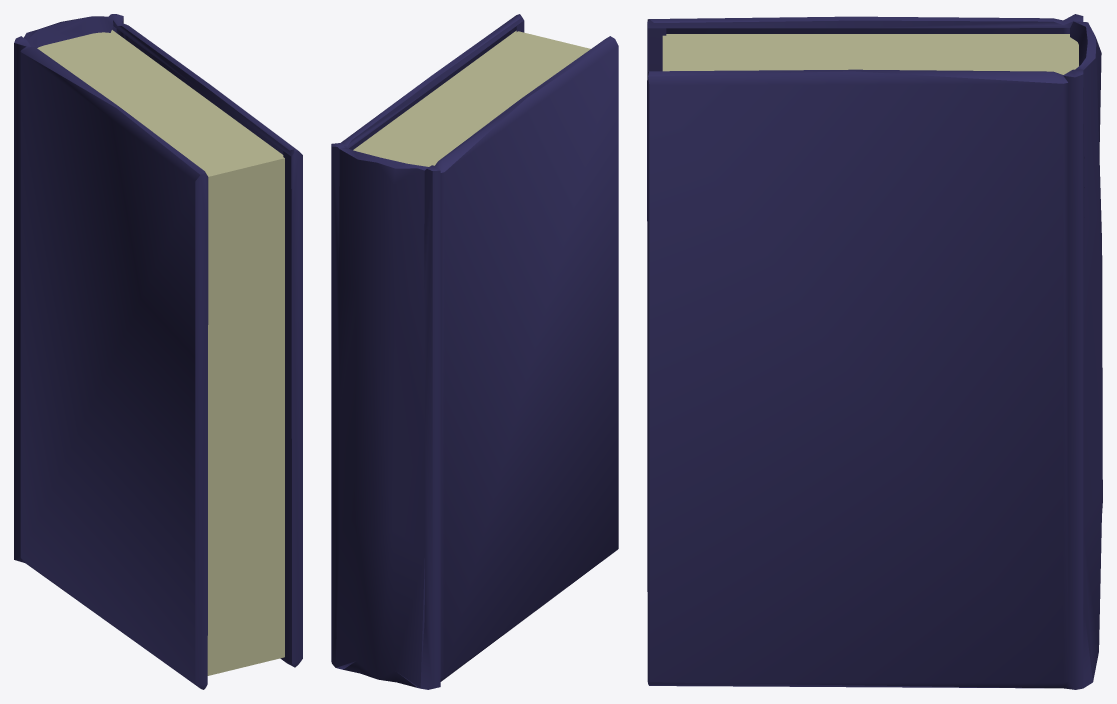
Rendered from ksiazka.fbx.
3 views of the same model, side by side, from view 1: azimuth 30°, elevation 25°; view 2: azimuth 150°, elevation 25°; view 3: azimuth 270°, elevation 25° (orthographic). The views are drawn at different scales.
Visible parts, largest first — view 1: ksiazka okladka, ksiazka kartki; view 2: ksiazka okladka, ksiazka kartki; view 3: ksiazka okladka, ksiazka kartki.
Boxes of the visible parts, left/top/right/bottom form: ksiazka okladka: left=14, top=14, right=302, bottom=689; ksiazka kartki: left=37, top=30, right=284, bottom=675; ksiazka okladka: left=331, top=14, right=618, bottom=689; ksiazka kartki: left=353, top=30, right=590, bottom=166; ksiazka okladka: left=647, top=14, right=1102, bottom=689; ksiazka kartki: left=662, top=34, right=1078, bottom=74.
Bounding box in the file's own units: 12.32 × 56.27 × 37.45.
